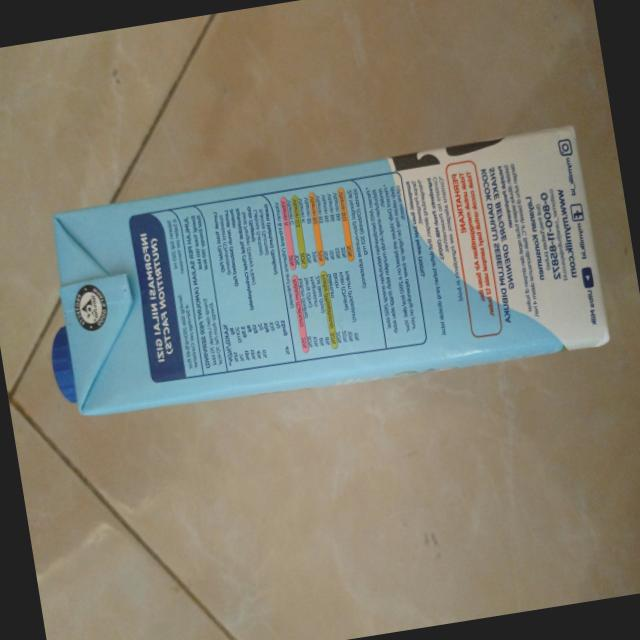ultramilk-full-cream: (24, 120, 612, 430)
